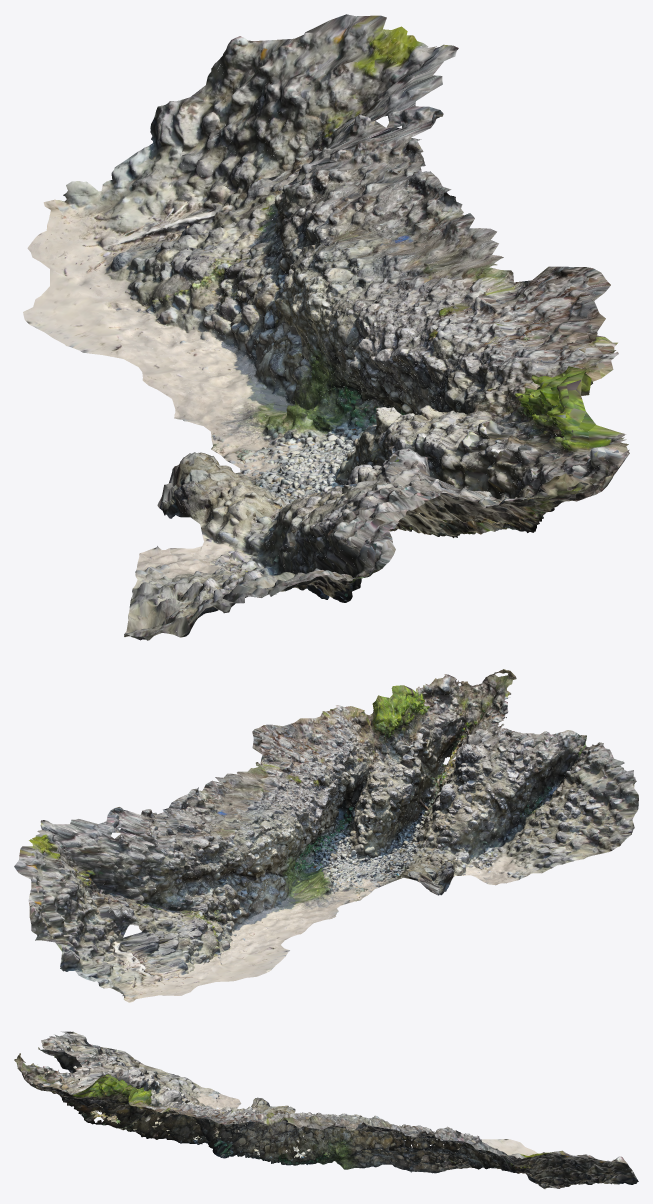
File: sf-beach-rock-formation-02-781b99.glb
3 renders of one model, top to bottom at view 1: azimuth 30°, elevation 25°; view 2: azimuth 150°, elevation 25°; view 3: azimuth 270°, elevation 25°, orthographic. The views are drawn at different scales.
Visible parts, largest first — view 1: Object_3, Object_4, Object_7, Object_6, Object_5, Object_8, Object_2; view 2: Object_3, Object_4, Object_7, Object_5, Object_6, Object_8, Object_2; view 3: Object_7, Object_6, Object_5, Object_3, Object_4, Object_8, Object_2.
Part boxes in pixels (x1,y1,x2,y2): Object_3: (27,14,619,633); Object_4: (23,43,618,593); Object_7: (25,21,626,636); Object_6: (121,29,625,640); Object_5: (43,87,629,637); Object_8: (122,26,617,625); Object_2: (77,29,620,628); Object_3: (14,676,636,1000); Object_4: (32,681,613,985); Object_7: (21,669,636,990); Object_5: (66,674,638,1002); Object_6: (32,684,634,969); Object_8: (29,672,626,977); Object_2: (30,678,637,978); Object_7: (14,1034,626,1188); Object_6: (27,1035,618,1188); Object_5: (36,1031,586,1188); Object_3: (23,1038,638,1187); Object_4: (23,1036,612,1174); Object_8: (16,1034,628,1176); Object_2: (23,1037,632,1186).
Bounding box in the file's own units: 14.04 × 4.01 × 21.33.
7 materials, 7 textured.
